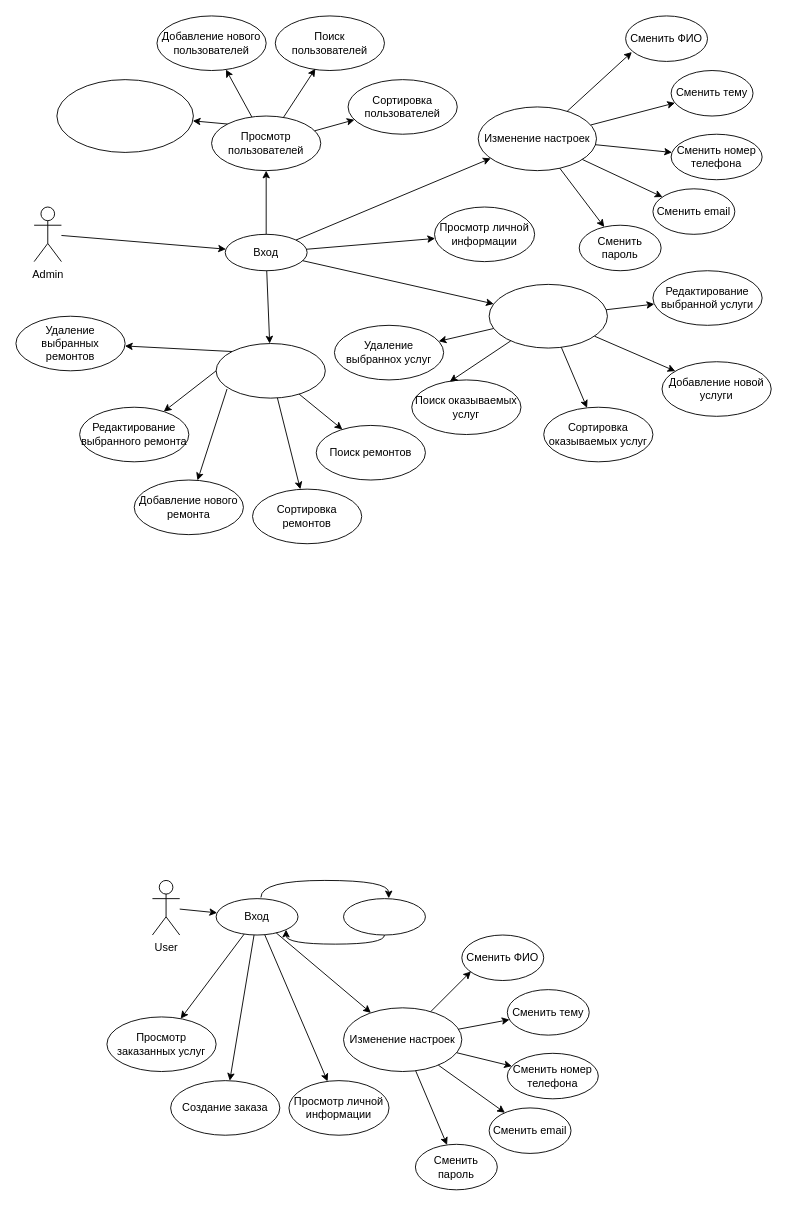
The diagram is 787 pixels wide and 1206 high, and some of its shapes have lost their labels. Here are the shapes that lost their labels. From the top down, the centre of each, then its label:
At point (124, 115): "Редактирование информации пользователя".
At point (547, 315): "Просмотр оказываемых услуг".
At point (270, 370): "Просмотр ремонтов".
At point (384, 916): "Регистрация".
